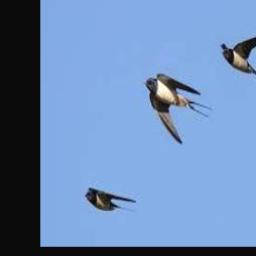Swallow: (145, 73, 214, 143), (222, 31, 256, 84), (86, 187, 137, 212)
